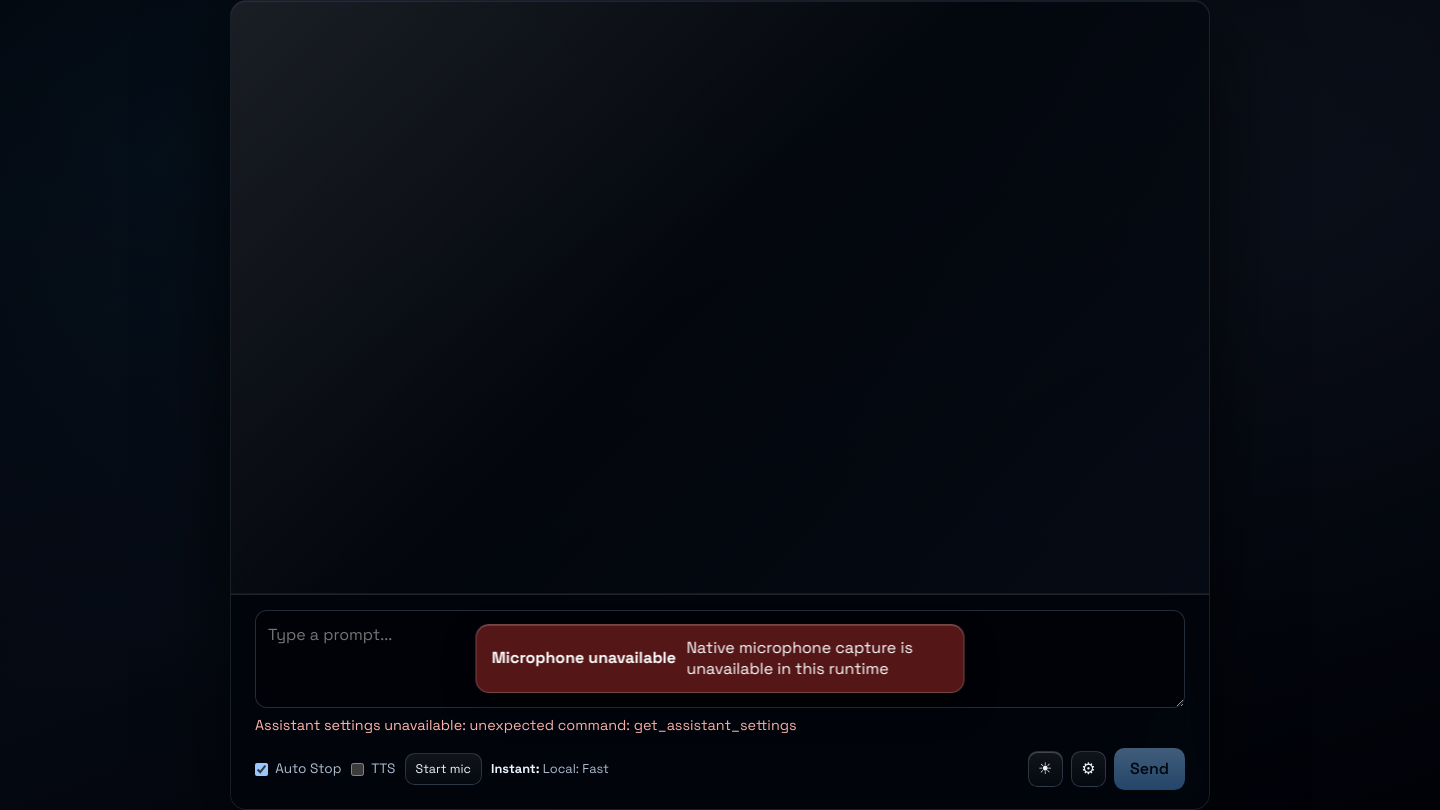
Test: App › surfaces startup error when profile switch polling settles to error
Click the button "⚙": (1088, 769) [1071,751,1106,787]
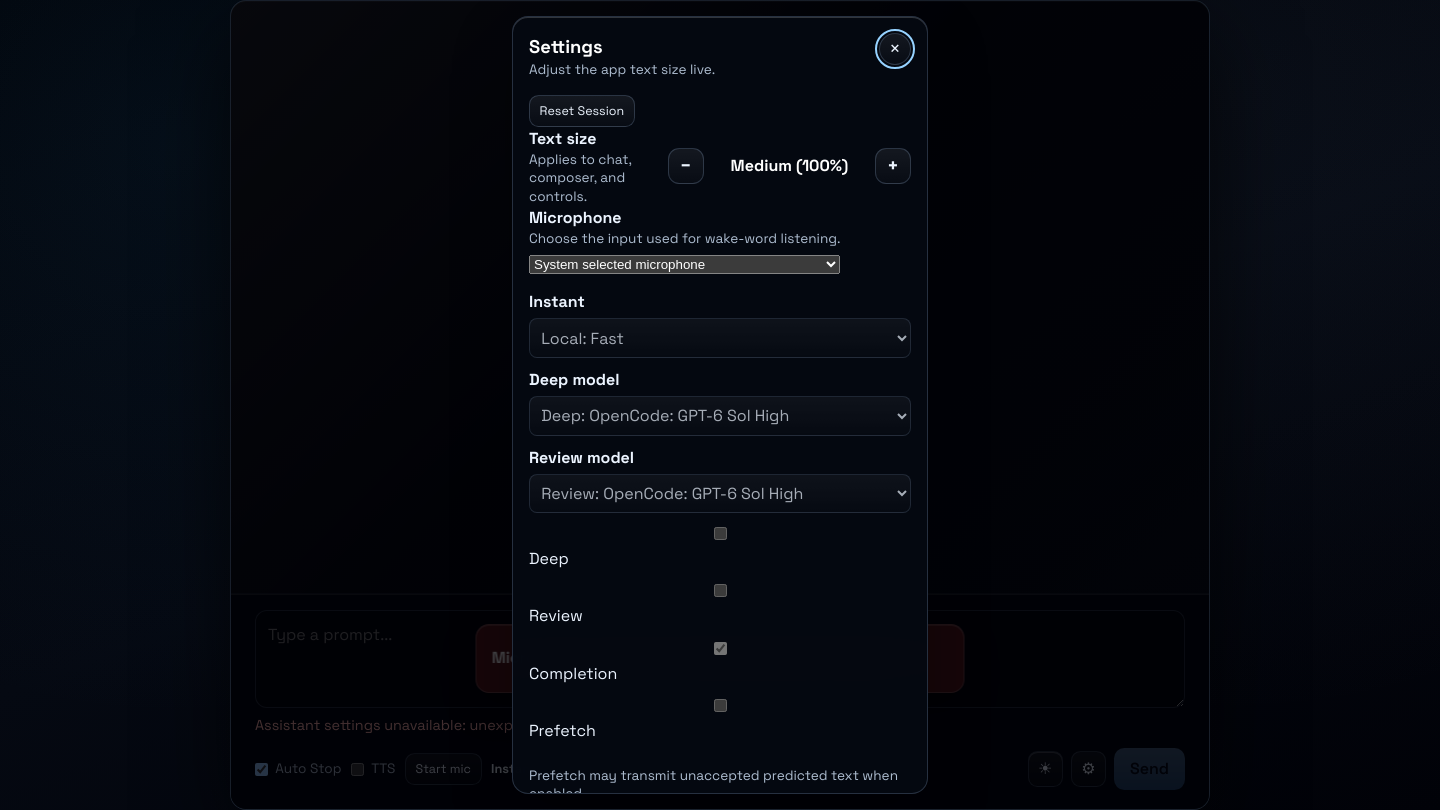
Select "Local: Quality" in the dropdown with id "assistantInstantSelect": (720, 338) [529,318,911,358]
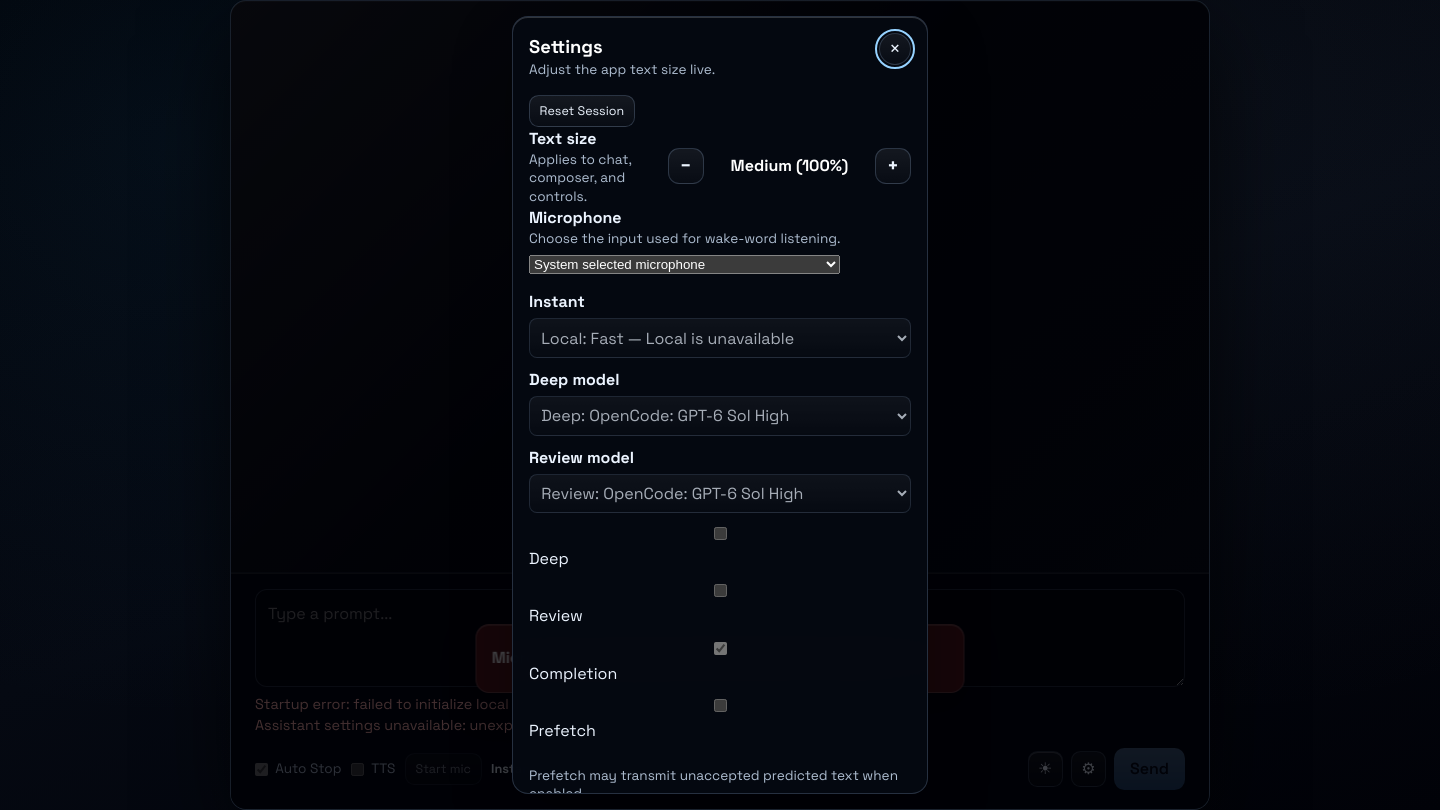
Now the text "Startup error: failed to initialize local llama.cpp runtime: boom" is shown, box [255,695,684,713]
